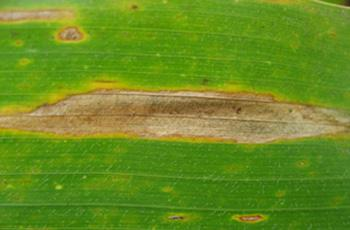Corn Gray leaf spot: (2, 10, 349, 192)
